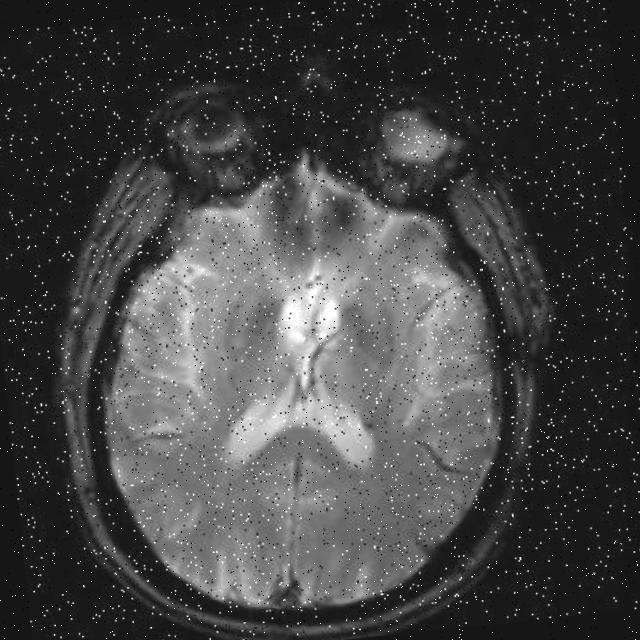MCI: (240, 165, 368, 262), (330, 267, 429, 391), (198, 254, 290, 374)
